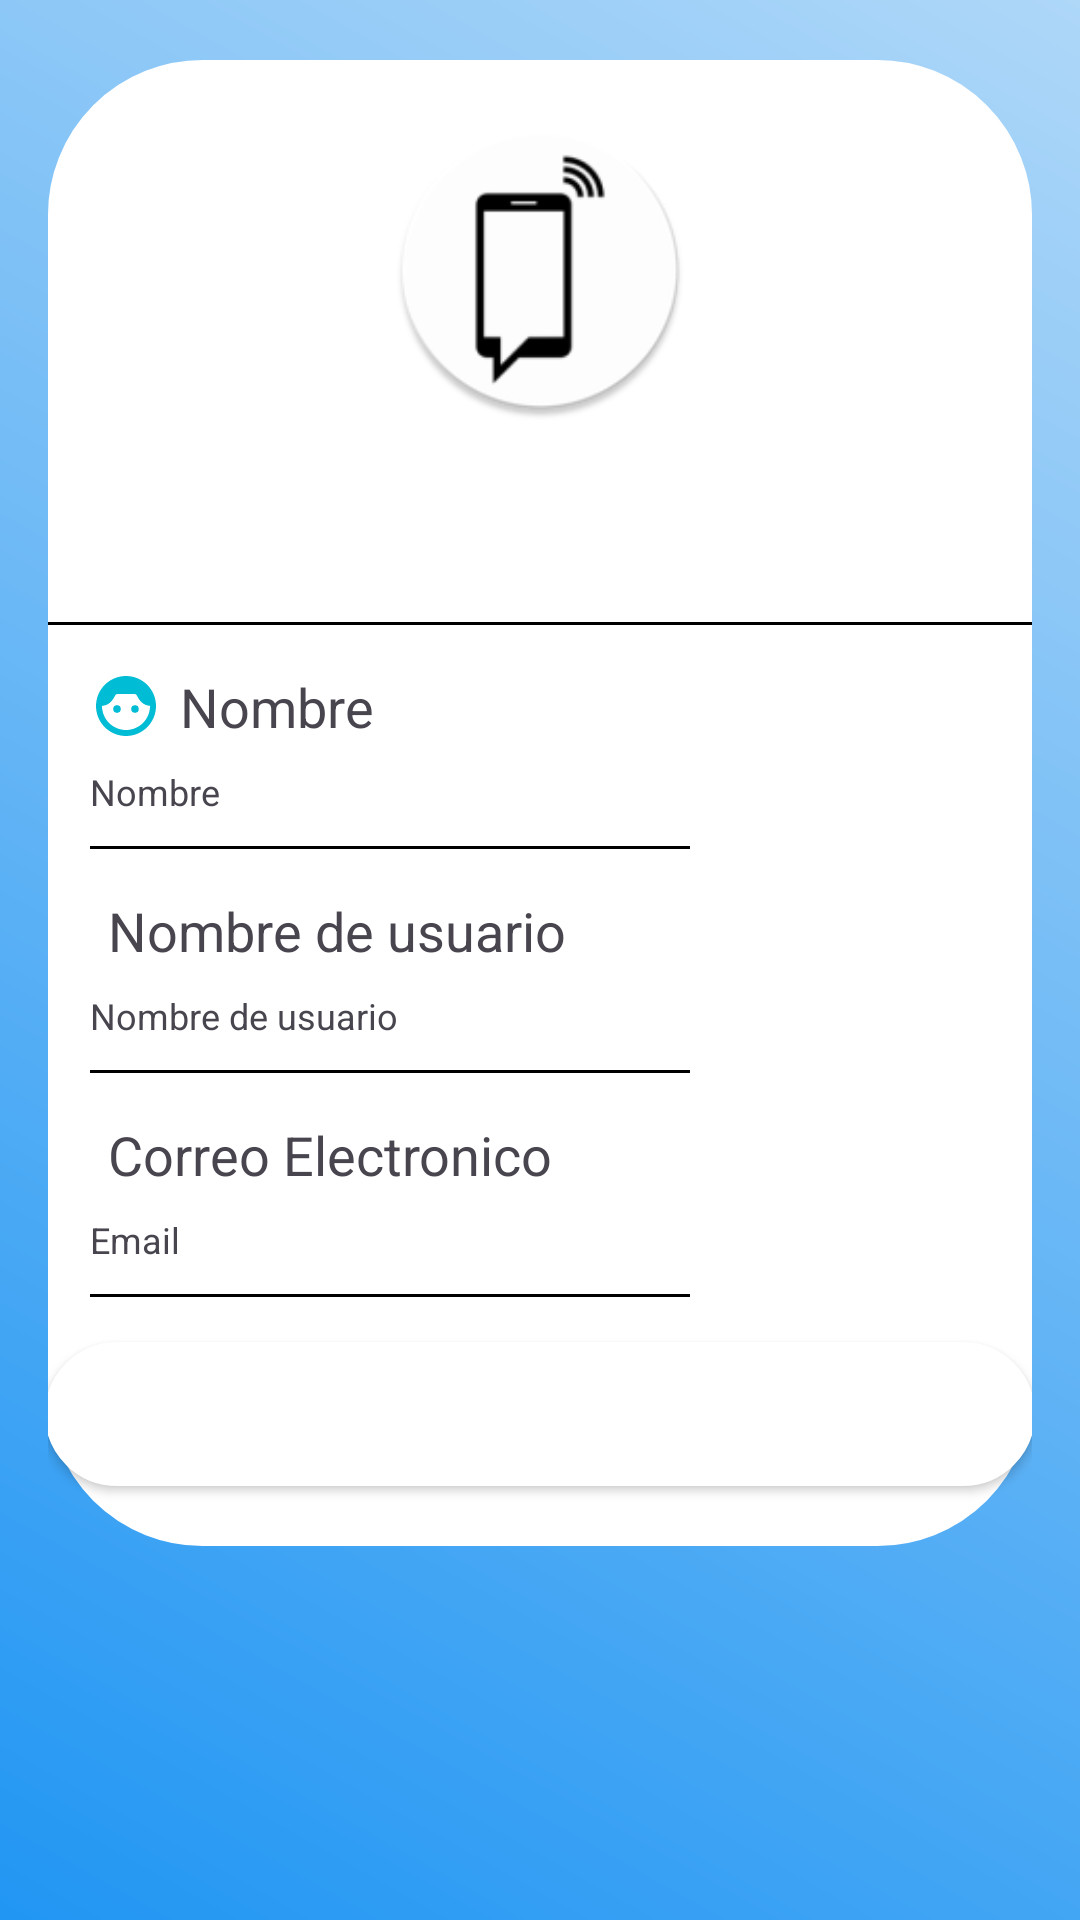

Icon click points for this 1080px×1920px phone screenshot, format (x=x, y=y):
face: (x=126, y=706)
